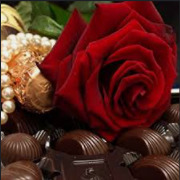RedRose: (43, 1, 179, 142)
